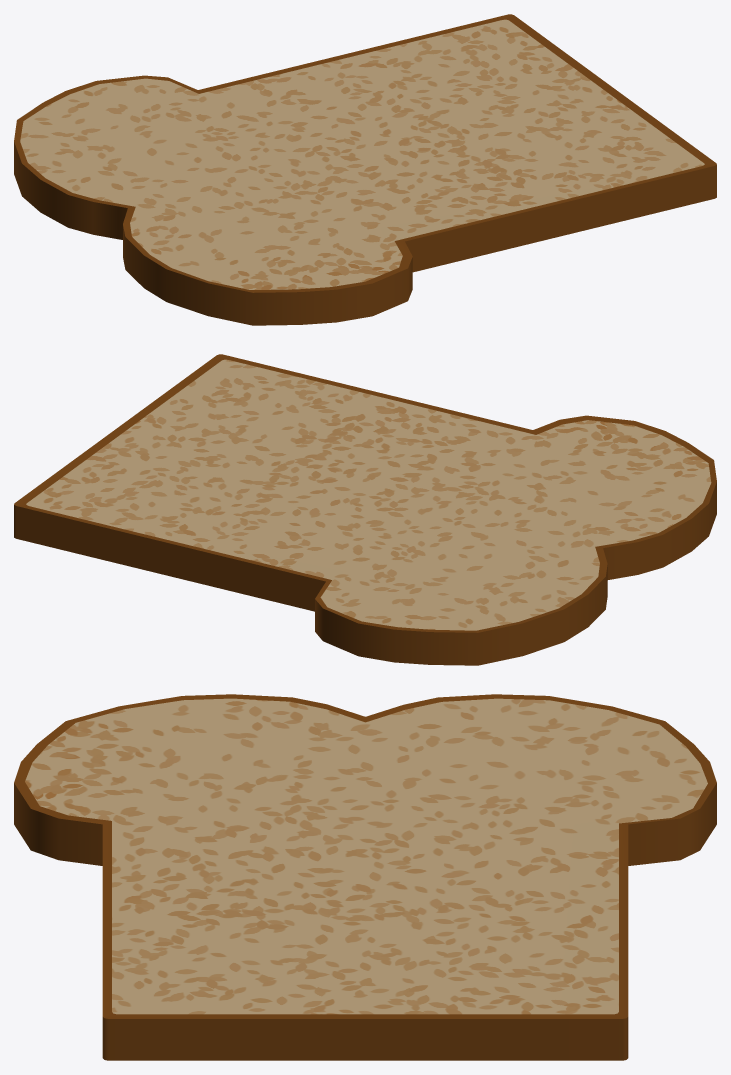
The model's file is Slice of bread.fbx.
3 views of the same model, one above another, from view 1: azimuth 30°, elevation 25°; view 2: azimuth 150°, elevation 25°; view 3: azimuth 270°, elevation 25° (orthographic). The views are drawn at different scales.
Parts seen in each view (by area): view 1: Slice_of_BrownBread; view 2: Slice_of_BrownBread; view 3: Slice_of_BrownBread.
Boxes of the visible parts, bbox=[...] form: Slice_of_BrownBread: bbox=[14, 14, 716, 325]; Slice_of_BrownBread: bbox=[14, 354, 716, 665]; Slice_of_BrownBread: bbox=[14, 694, 716, 1060].
Bounding box in the file's own units: 19.51 × 1.17 × 17.85.
